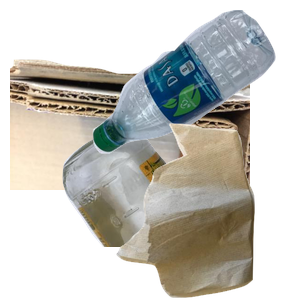cardboard: (10, 57, 250, 237)
glass: (60, 120, 300, 300)
plastic: (90, 10, 300, 156)
trash: (114, 121, 300, 300)
